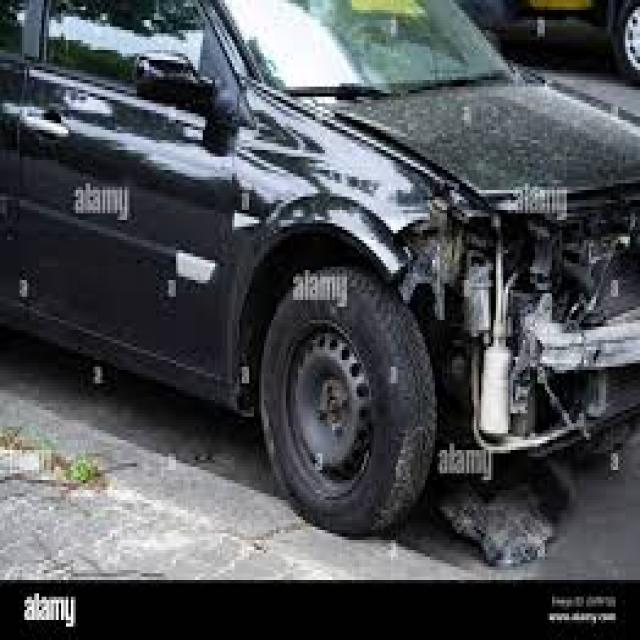damaged-head-light: (412, 212, 528, 292)
